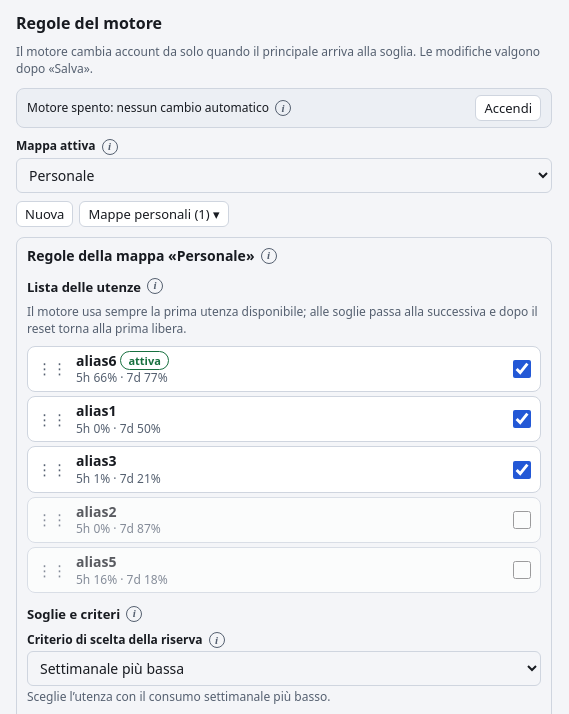
Test: RulesPage: flusso a lista › mouse: trascinare la maniglia sopra un’altra riga cambia l’ordine
Expected: the heading "Regole del motore" is shown, top-left (16, 12), bottom-right (162, 34)
Press the mouse on the button named "Sposta alias1, posizione 2 di 5" at point(52, 419), box top-left (34, 406), bottom-right (70, 433)
(page scrolled)
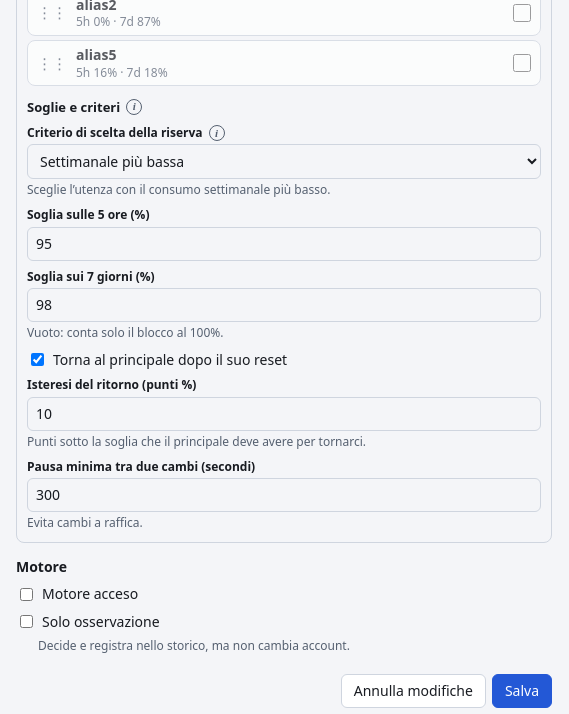
Expected: the button "Salva" is enabled, top-left (492, 674), bottom-right (552, 708)
